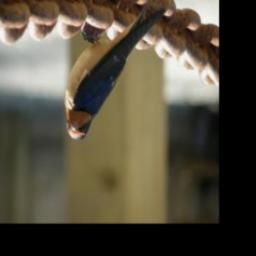Swallow: (62, 0, 181, 142)
